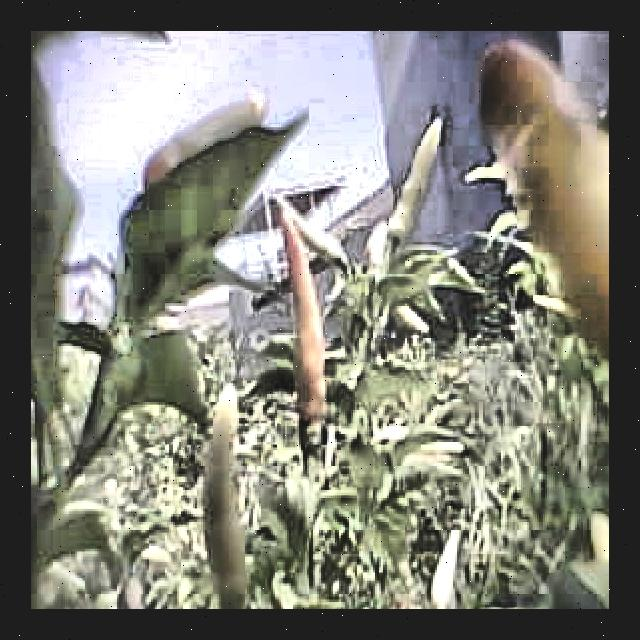Cabai: (486, 50, 609, 303), (277, 201, 347, 445), (189, 384, 253, 609), (379, 116, 458, 253)
